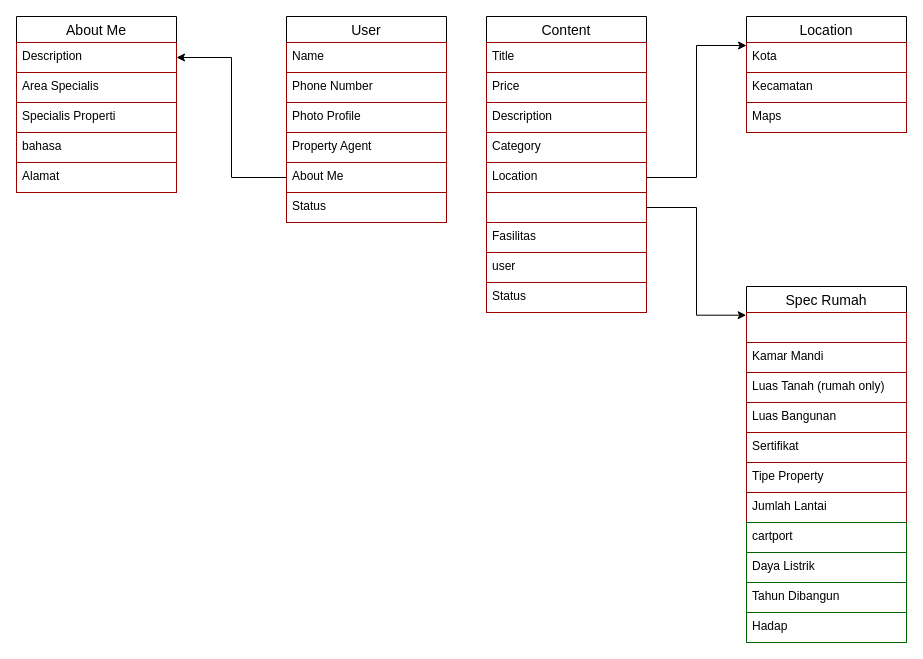
Image size: 923x659. Some labels were removed from this diagram. Each missing label, with the centre of its shape:
"Kamar Tidur" belongs at point (826, 327).
"Specification" belongs at point (566, 207).
